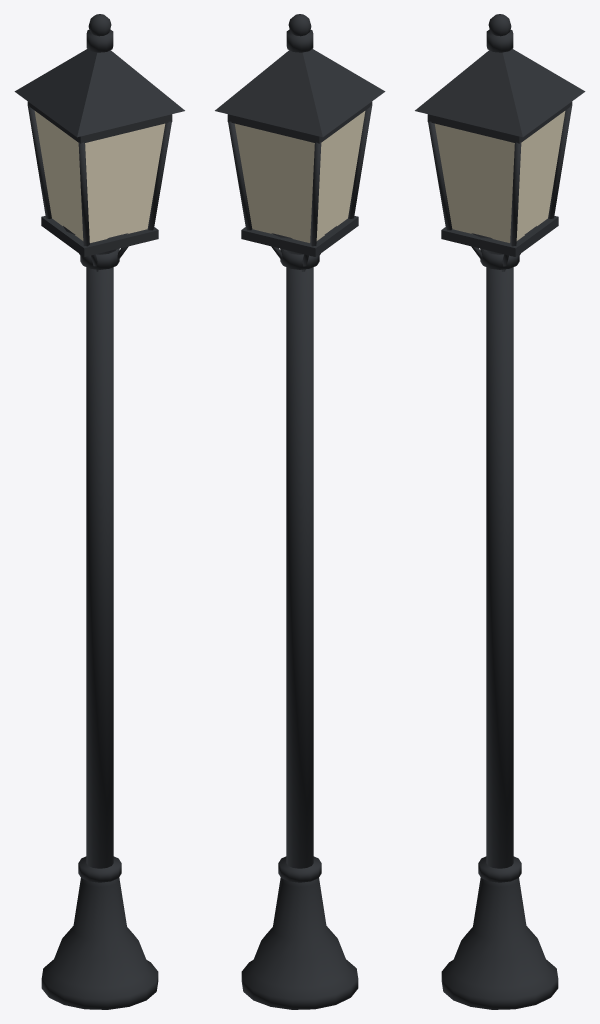
The model's file is lampPost.glb.
The picture shows the model from 3 angles, left to right: view 1: azimuth 30°, elevation 25°; view 2: azimuth 150°, elevation 25°; view 3: azimuth 330°, elevation 25°; orthographic projection.
Parts seen in each view (by area): view 1: lampPost; view 2: lampPost; view 3: lampPost.
Part boxes in pixels (box(x1,y1,x2,y2)): lampPost: box(14, 14, 184, 1009); lampPost: box(215, 14, 385, 1009); lampPost: box(415, 14, 585, 1009).
Bounding box in the file's own units: 0.32 × 2.73 × 0.32.
